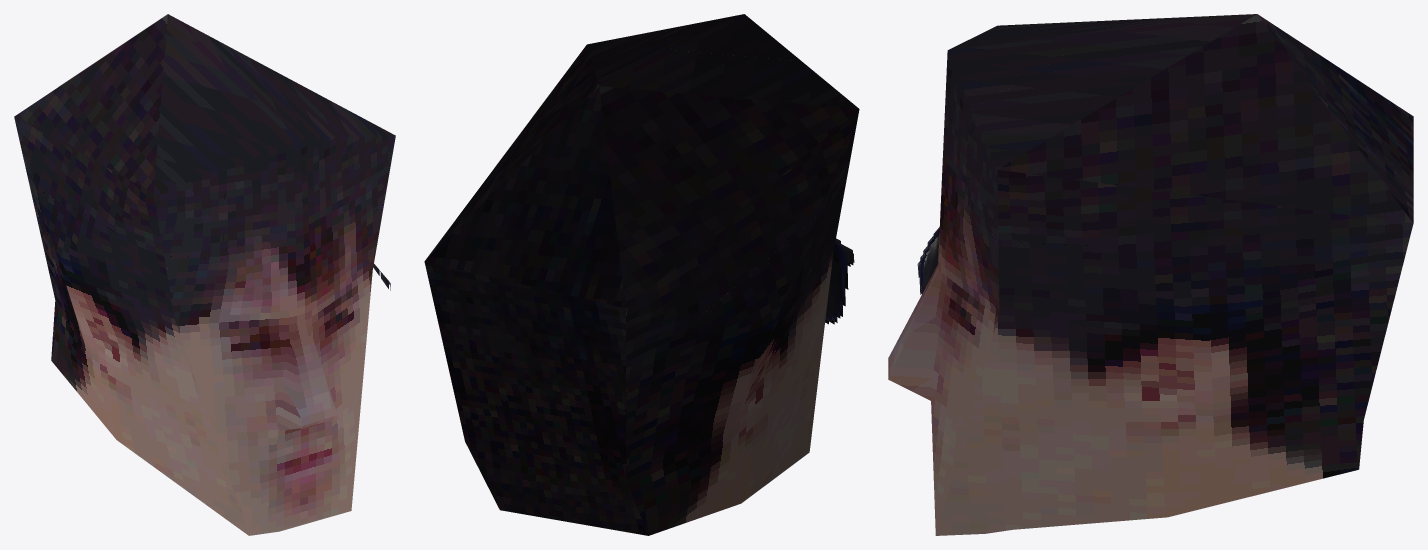
Rendered from CheadstevehZ.obj.
3 renders of one model, left to right at view 1: azimuth 30°, elevation 25°; view 2: azimuth 150°, elevation 25°; view 3: azimuth 270°, elevation 25°, orthographic. The views are drawn at different scales.
Bounding box in the file's own units: 152 × 243 × 222.
7 materials, 7 textured.
